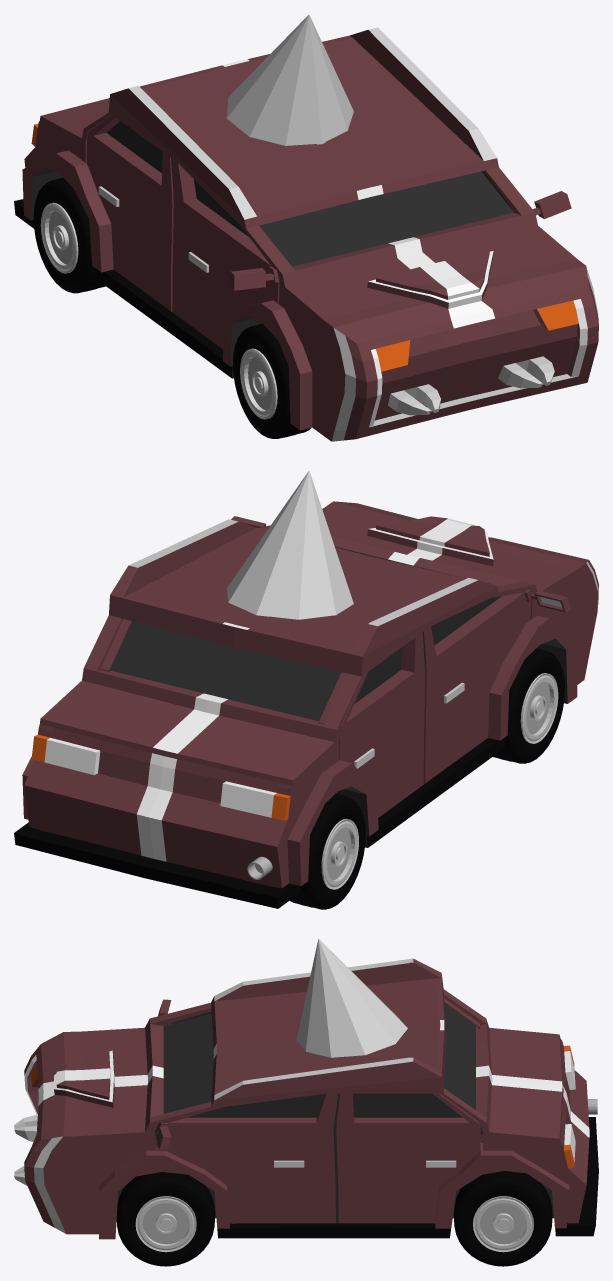
3 views of the same model, one above another, from view 1: azimuth 30°, elevation 25°; view 2: azimuth 150°, elevation 25°; view 3: azimuth 270°, elevation 25° (orthographic). The views are drawn at different scales.
Visible parts, largest first — view 1: BODY42A, Cone, WHEEL.004, WHEEL.001; view 2: BODY42A, Cone, WHEEL.004, WHEEL.001; view 3: BODY42A, WHEEL.002, WHEEL.003, Cone.
Boxes of the visible parts, x1,y1,x2,y2 form: BODY42A: [14, 27, 598, 441]; Cone: [226, 14, 353, 145]; WHEEL.004: [33, 177, 105, 293]; WHEEL.001: [233, 323, 310, 438]; BODY42A: [14, 501, 598, 908]; Cone: [226, 470, 353, 619]; WHEEL.004: [289, 794, 365, 909]; WHEEL.001: [493, 648, 564, 763]; BODY42A: [14, 958, 598, 1239]; WHEEL.002: [454, 1171, 552, 1266]; WHEEL.003: [116, 1172, 215, 1266]; Cone: [296, 938, 407, 1057].
Bounding box in the file's own units: 131 × 119 × 232.
